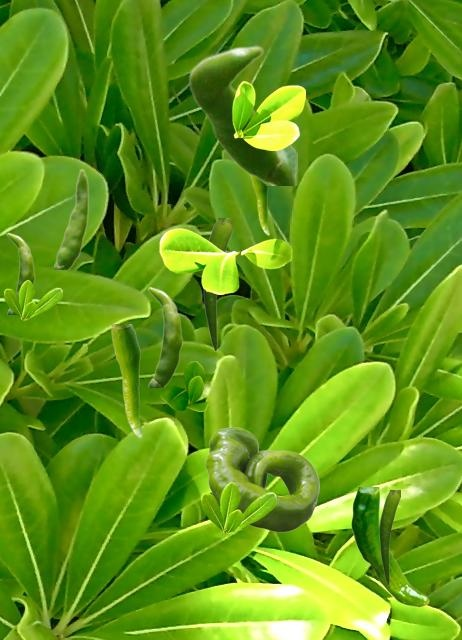green_chili: (188, 45, 296, 184), (205, 427, 318, 531), (351, 487, 428, 606), (203, 218, 232, 350), (147, 286, 182, 386), (54, 168, 88, 268), (111, 324, 141, 437), (6, 232, 34, 313), (379, 490, 399, 584), (250, 176, 268, 234)
